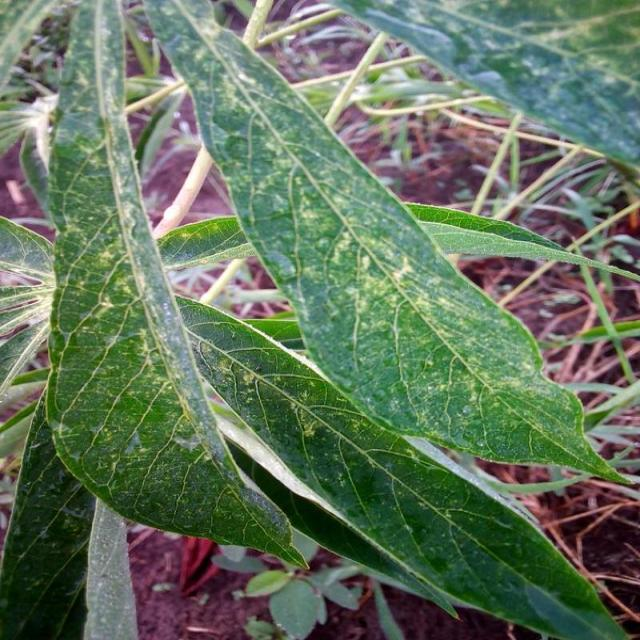cassava leaf: (142, 0, 634, 489), (171, 291, 630, 638), (43, 0, 314, 569)
